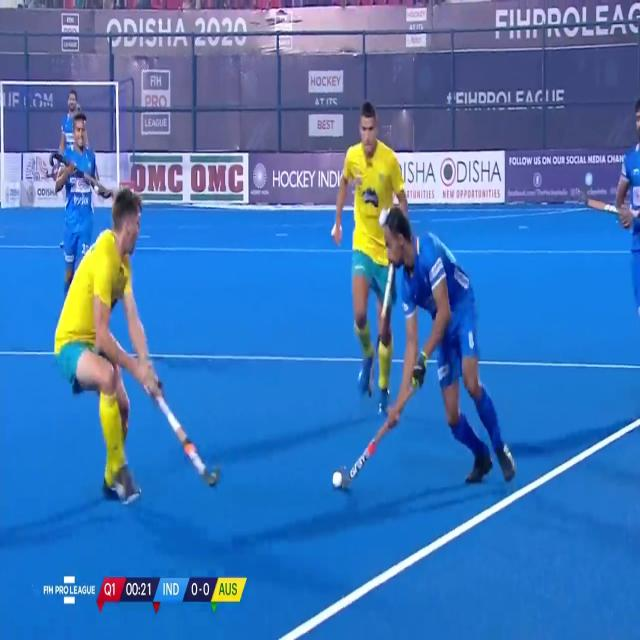ball: (322, 447, 358, 504)
